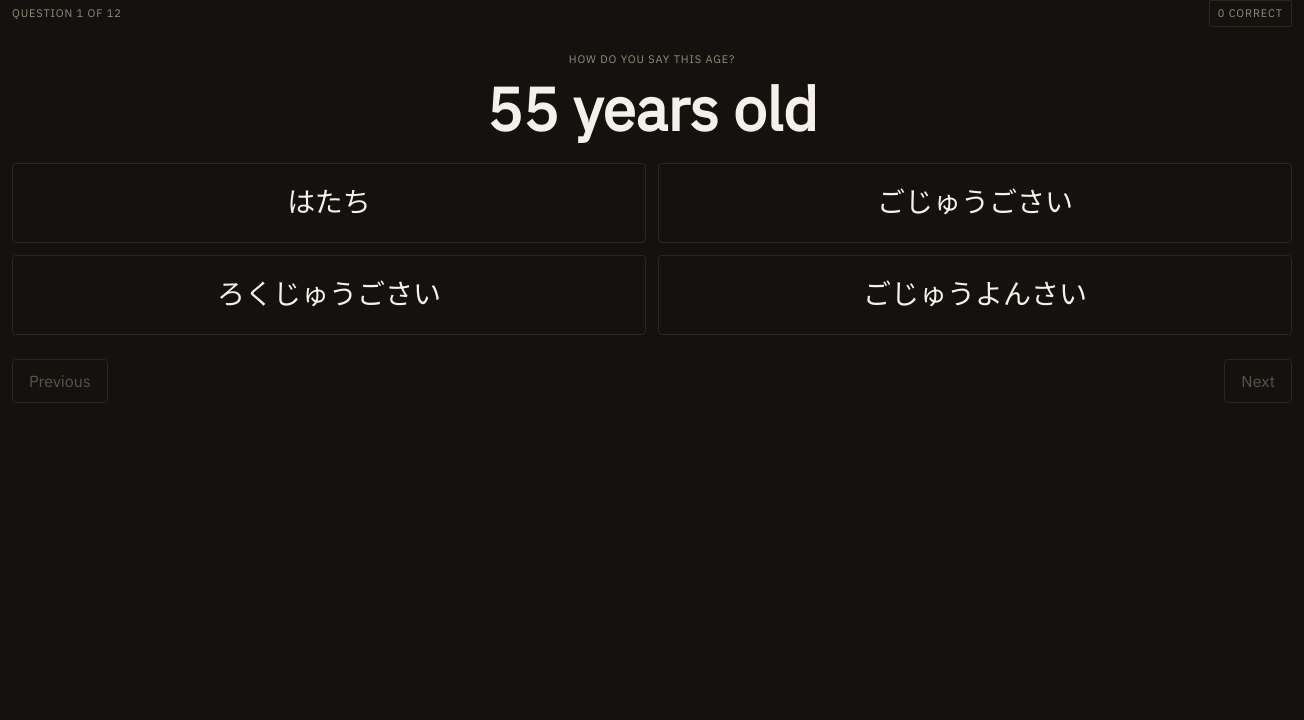
Test: The numbers drill › marks the right answer in words, not only colour
Click the button "はたち": [329, 203] box [12,163,646,243]
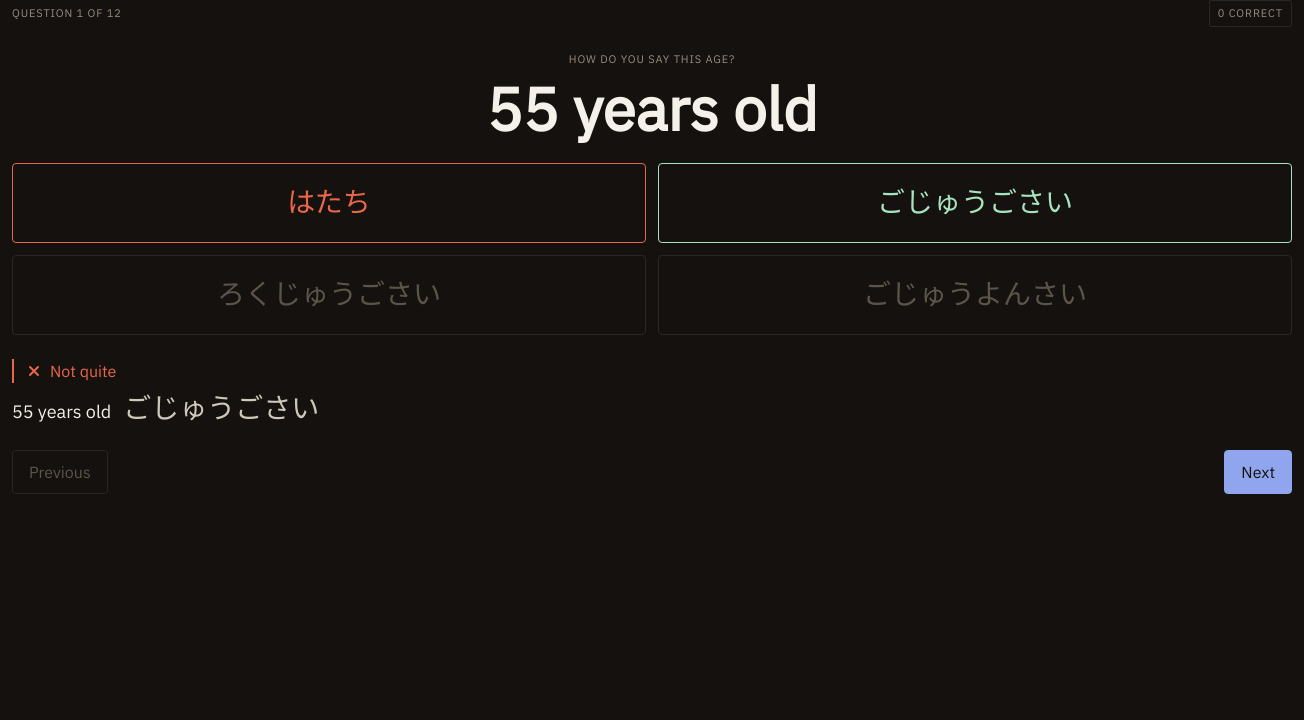
Expected: the text "Not quite" is shown, [12,359,1292,383]
